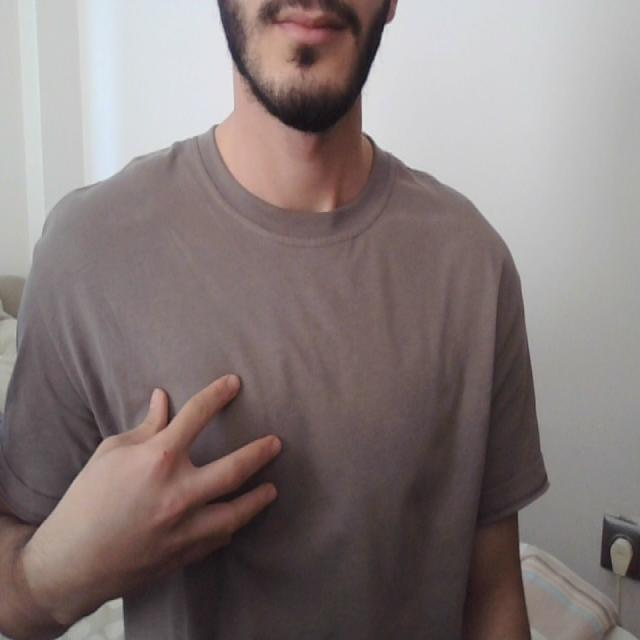Anne: (62, 346, 481, 609)
